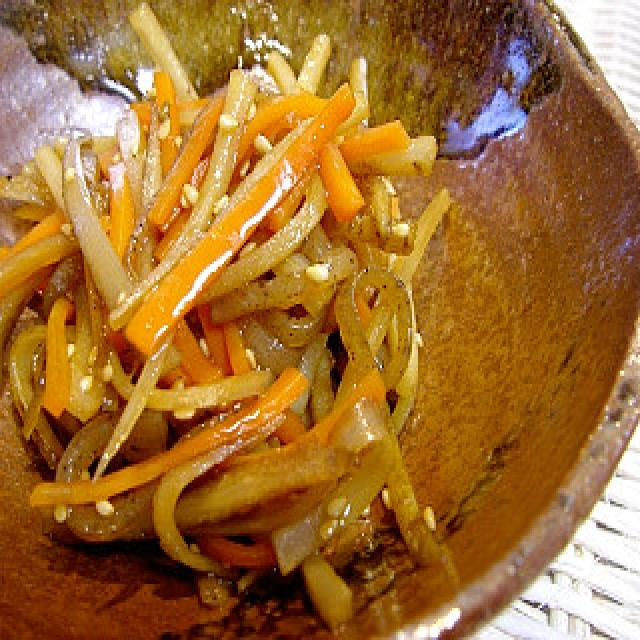蔬菜料理: (22, 18, 640, 640)
